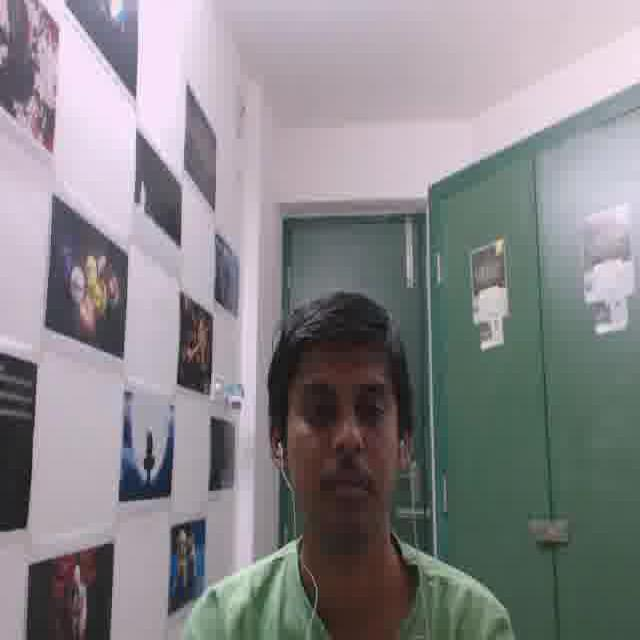Boredom: (281, 336, 394, 529)
